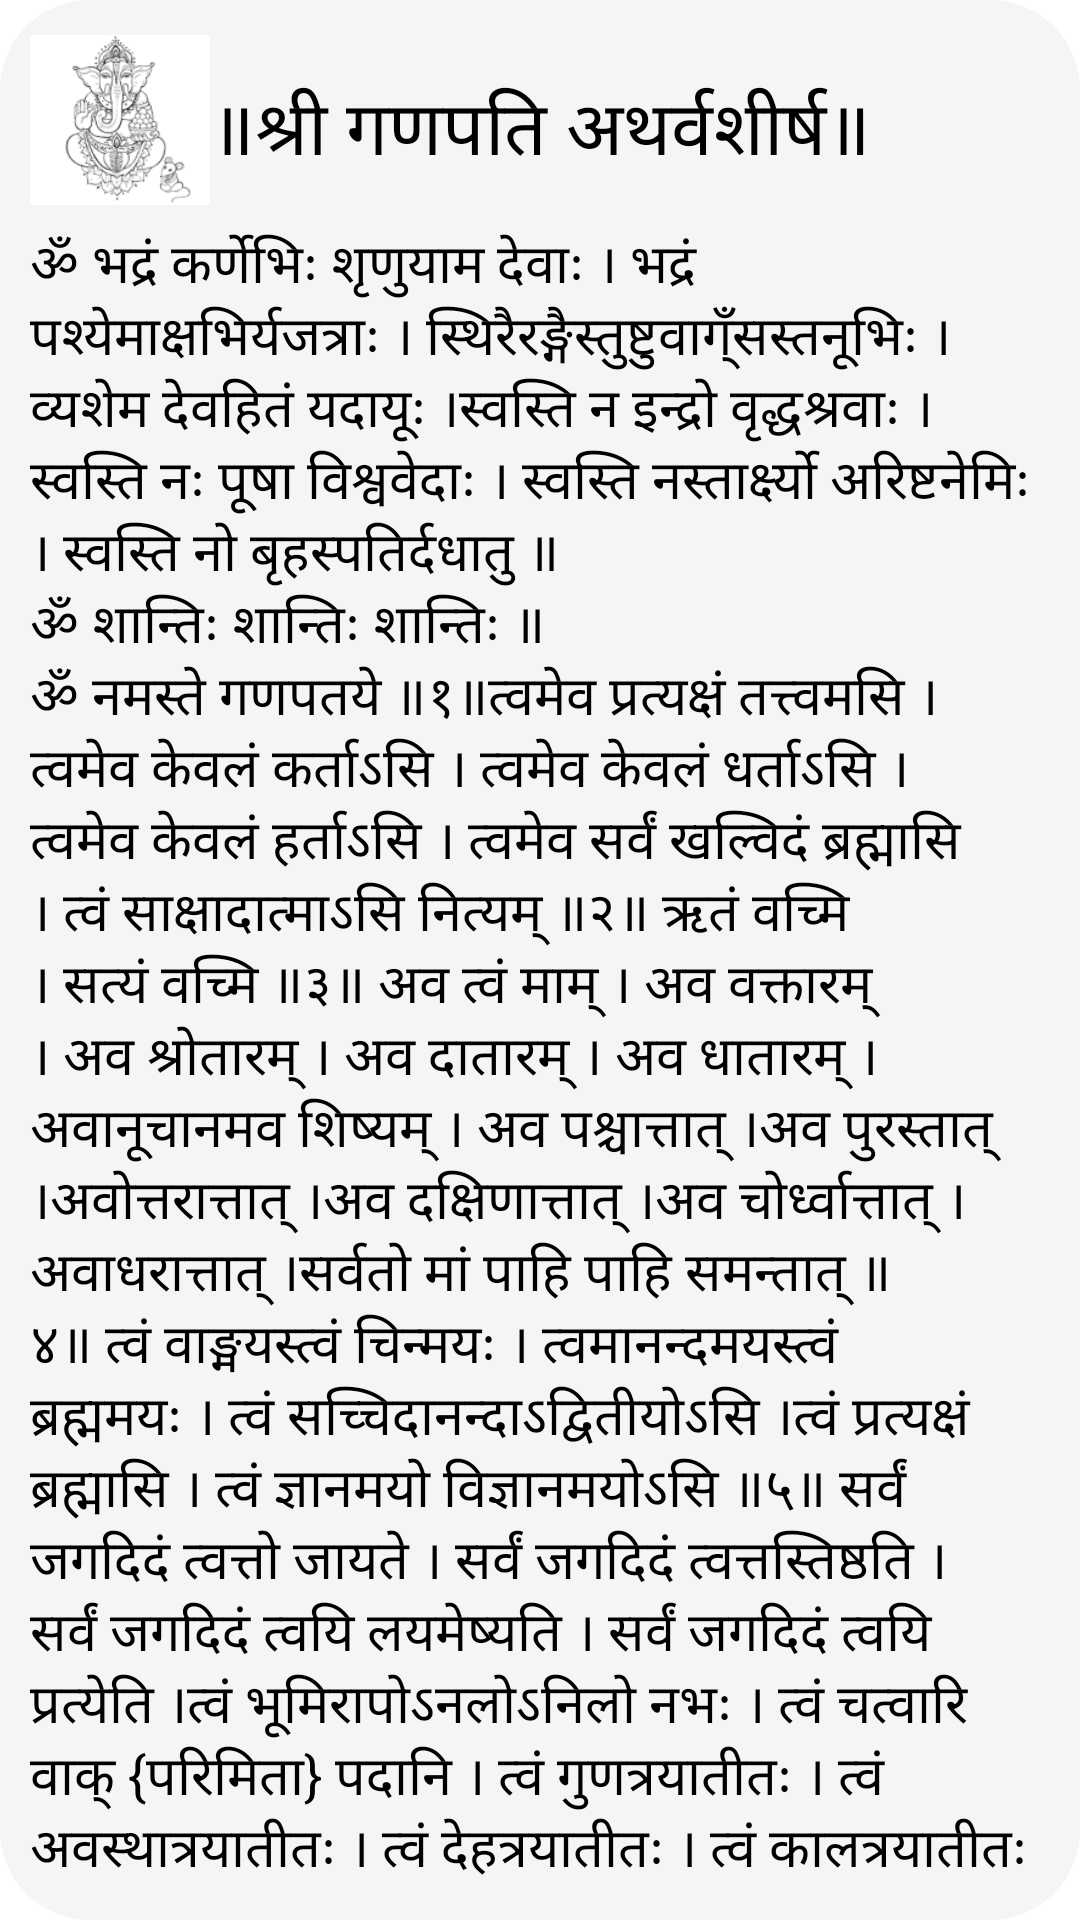

Point at icon controls on the screen. Image size 1080*1920, points as (x=x, y=y).
ganapati: (x=120, y=120)
